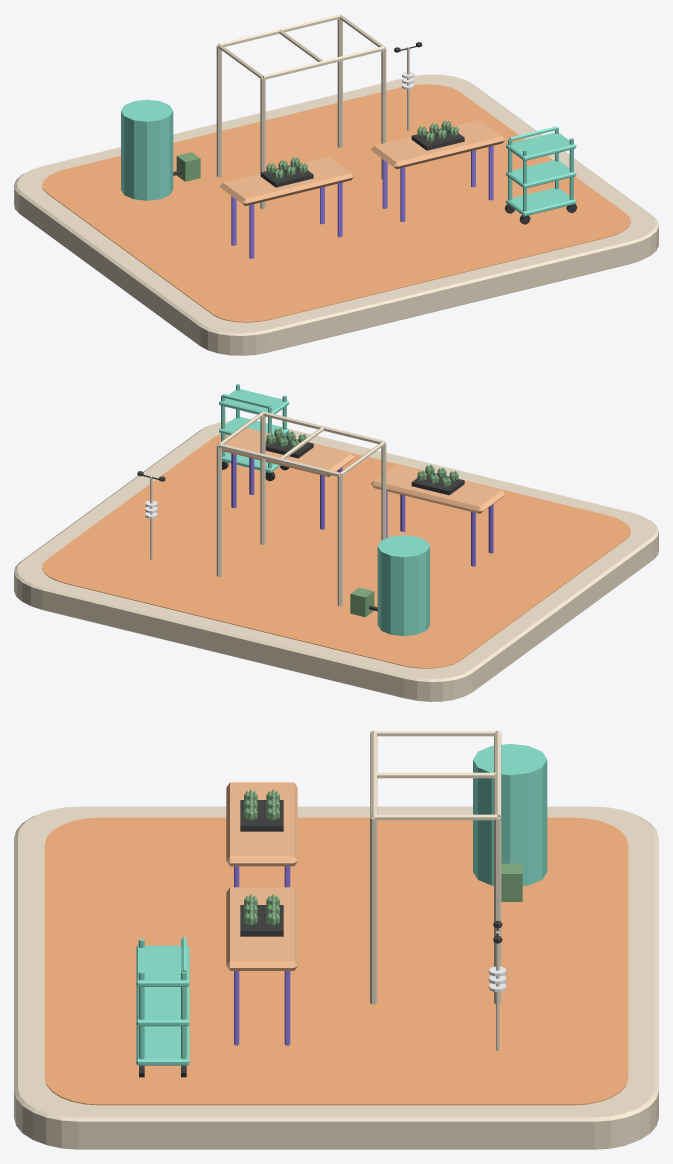
File: room.fbx
The picture shows the model from 3 angles, top to bottom: view 1: azimuth 30°, elevation 25°; view 2: azimuth 150°, elevation 25°; view 3: azimuth 270°, elevation 25°; orthographic projection. The views are drawn at different scales.
Parts seen in each view (by area): view 1: COM-02 Floor Surface, COM-01 Rounded Base Direct, Water tank, Rounded table top, Rounded table top.001, Tray.004, Tray.003, Tray.002, Post.001, Post.003, Roof rail, Roof rail.001 (+5 smaller); view 2: COM-02 Floor Surface, COM-01 Rounded Base Direct, Water tank, Rounded table top, Rounded table top.001, Tray.004, Post.001, Post.003, Post.002, Roof rail.001, Roof rail, Pump (+3 smaller); view 3: COM-02 Floor Surface, COM-01 Rounded Base Direct, Water tank, Rounded table top, Rounded table top.001, Tray.004, Tray.003, Tray.002, Post.002, Post.003, Tray.001, Tray (+4 smaller).
Boxes of the visible parts, x1=… form: COM-02 Floor Surface: x1=42, y1=84, x2=630, y2=322; COM-01 Rounded Base Direct: x1=14, y1=74, x2=658, y2=355; Water tank: x1=121, y1=99, x2=173, y2=200; Rounded table top: x1=220, y1=156, x2=354, y2=205; Rounded table top.001: x1=371, y1=120, x2=505, y2=169; Tray.004: x1=506, y1=132, x2=576, y2=160; Tray.003: x1=506, y1=160, x2=576, y2=188; Tray.002: x1=506, y1=187, x2=576, y2=216; Post.001: x1=216, y1=45, x2=221, y2=177; Post.003: x1=337, y1=19, x2=342, y2=147; Roof rail: x1=263, y1=46, x2=384, y2=79; Roof rail.001: x1=218, y1=14, x2=340, y2=46; COM-02 Floor Surface: x1=42, y1=434, x2=630, y2=668; COM-01 Rounded Base Direct: x1=14, y1=421, x2=658, y2=701; Water tank: x1=377, y1=535, x2=429, y2=636; Rounded table top: x1=371, y1=464, x2=505, y2=513; Rounded table top.001: x1=222, y1=428, x2=354, y2=476; Tray.004: x1=219, y1=389, x2=289, y2=414; Post.001: x1=337, y1=475, x2=342, y2=606; Post.003: x1=216, y1=445, x2=221, y2=576; Post.002: x1=260, y1=416, x2=265, y2=544; Roof rail.001: x1=218, y1=443, x2=340, y2=476; Roof rail: x1=262, y1=411, x2=384, y2=444; Pump: x1=350, y1=587, x2=374, y2=617; COM-02 Floor Surface: x1=44, y1=817, x2=628, y2=1105; COM-01 Rounded Base Direct: x1=14, y1=806, x2=658, y2=1149; Water tank: x1=473, y1=744, x2=547, y2=886; Rounded table top: x1=226, y1=782, x2=297, y2=866; Rounded table top.001: x1=226, y1=887, x2=297, y2=970; Tray.004: x1=136, y1=945, x2=189, y2=986; Tray.003: x1=136, y1=986, x2=189, y2=1026; Tray.002: x1=136, y1=1025, x2=189, y2=1065; Post.002: x1=370, y1=817, x2=377, y2=1004; Post.003: x1=494, y1=817, x2=501, y2=1003; Tray.001: x1=240, y1=905, x2=283, y2=936; Tray: x1=240, y1=800, x2=283, y2=831.
Bounding box in the file's own units: 600 × 198 × 520.
